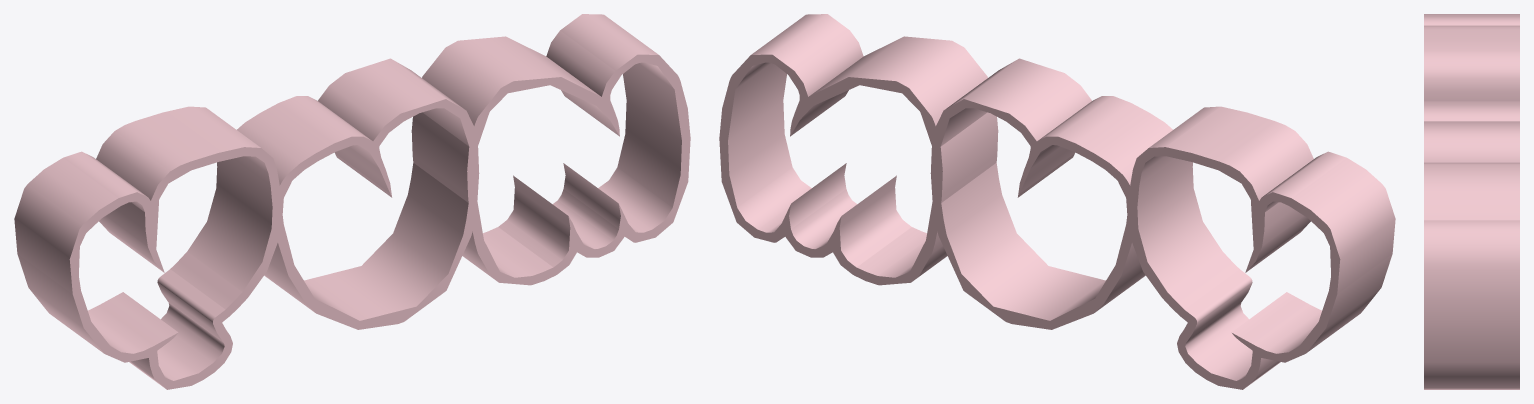
File: yum.dae
The picture shows the model from 3 angles, left to right: view 1: azimuth 30°, elevation 25°; view 2: azimuth 150°, elevation 25°; view 3: azimuth 270°, elevation 25°; orthographic projection. The views are drawn at different scales.
Visible parts, largest first — view 1: Design_Layer-1; view 2: Design_Layer-1; view 3: Design_Layer-1.
Boxes of the visible parts, <box> form: Design_Layer-1: <box>14,14,690,389</box>; Design_Layer-1: <box>719,14,1395,389</box>; Design_Layer-1: <box>1424,14,1519,389</box>.
Bounding box in the file's own units: 41.09 × 14.32 × 6.35.
